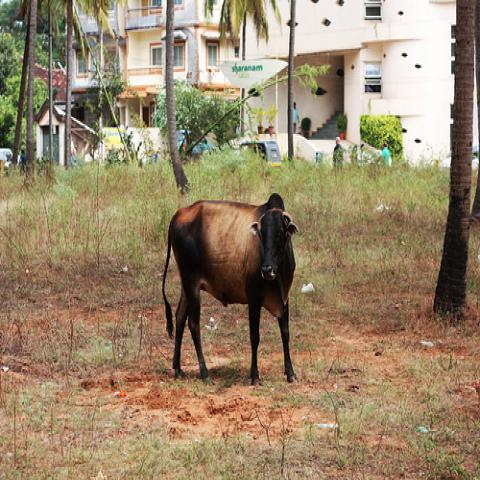car: (176, 126, 220, 154), (240, 140, 282, 168)
